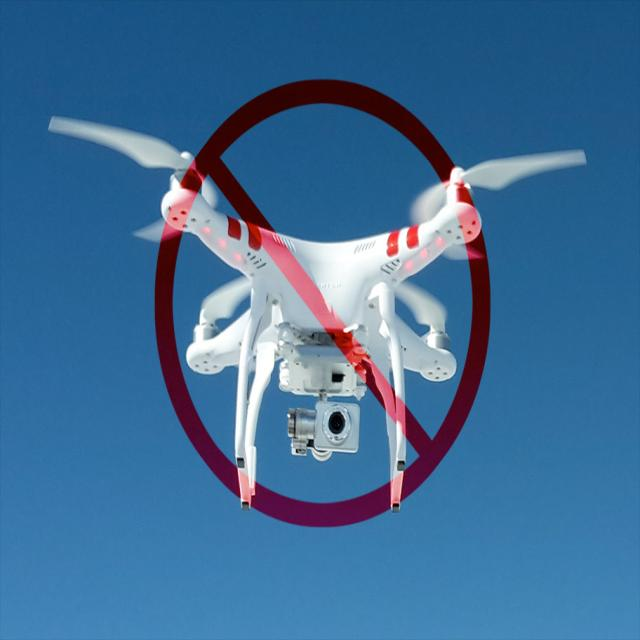drone: (38, 79, 598, 502)
